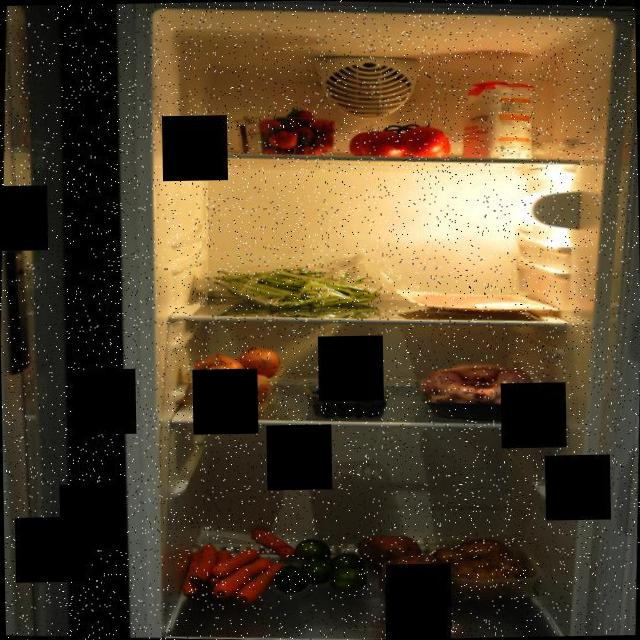Carne cerdo: (412, 288, 546, 316)
Cebolla: (190, 340, 284, 408)
Patata: (428, 532, 546, 600)
Tomate: (345, 118, 455, 160)
Zanahoria: (180, 524, 296, 608), (412, 357, 546, 422)
blueberries: (306, 383, 386, 422)
green_beans: (204, 248, 404, 320)
strawberries: (234, 105, 340, 156)
sugar: (462, 74, 534, 164)
sweet_potato: (354, 530, 452, 606)
